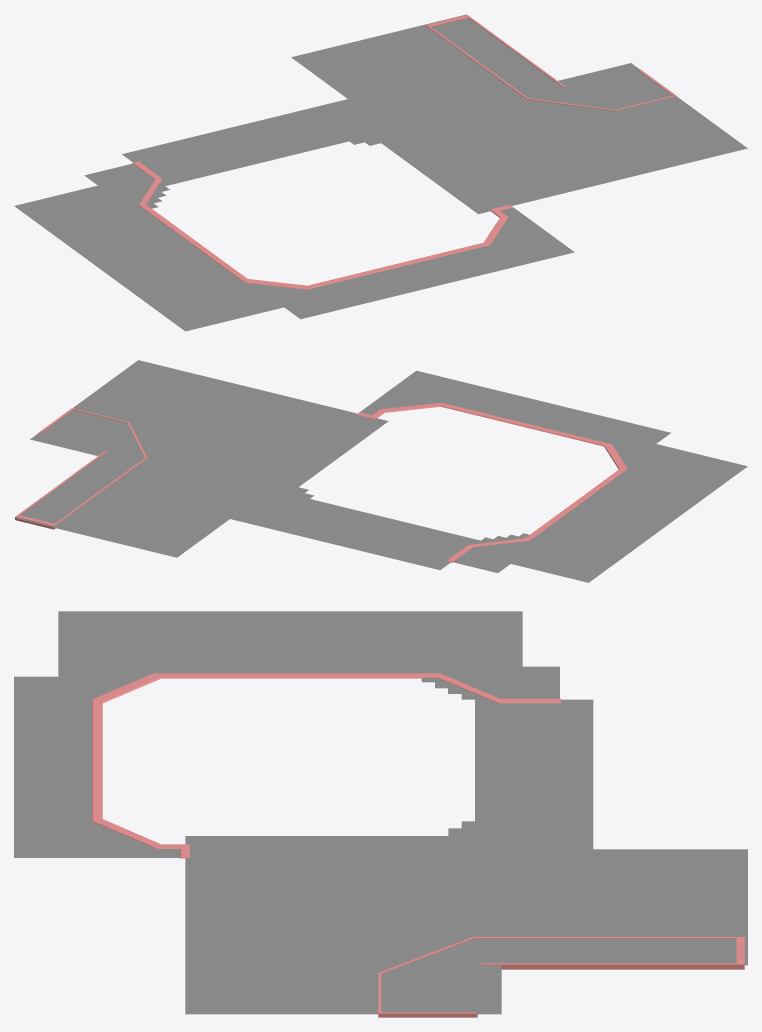
Rendered from S_Envi_FZFBase_Ground_01i.gltf.
3 renders of one model, top to bottom at view 1: azimuth 30°, elevation 25°; view 2: azimuth 150°, elevation 25°; view 3: azimuth 270°, elevation 25°, orthographic. The views are drawn at different scales.
Visible parts, largest first — view 1: S_Envi_FZFBase_Ground_01i; view 2: S_Envi_FZFBase_Ground_01i; view 3: S_Envi_FZFBase_Ground_01i.
Part boxes in pixels (x1,y1,x2,y2): S_Envi_FZFBase_Ground_01i: (14, 14, 747, 331); S_Envi_FZFBase_Ground_01i: (14, 360, 747, 582); S_Envi_FZFBase_Ground_01i: (14, 611, 747, 1017).
Bounding box in the file's own units: 25.54 × 0.1451 × 19.66.
